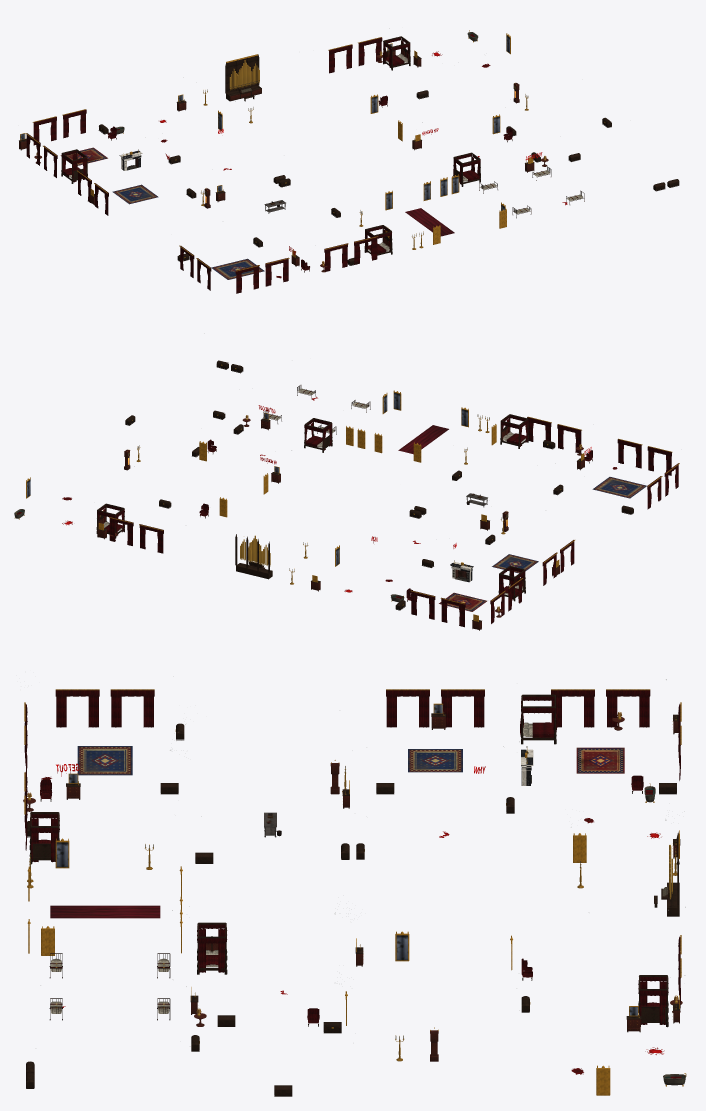
The model's file is manor_furn_f2.glb.
3 views of the same model, one above another, from view 1: azimuth 30°, elevation 25°; view 2: azimuth 150°, elevation 25°; view 3: azimuth 270°, elevation 25° (orthographic). The views are drawn at different scales.
Visible parts, largest first — view 1: manor_furn_f2; view 2: manor_furn_f2; view 3: manor_furn_f2.
Boxes of the visible parts, left/top/right/bottom form: manor_furn_f2: left=19, top=28, right=679, bottom=293; manor_furn_f2: left=14, top=333, right=679, bottom=630; manor_furn_f2: left=20, top=676, right=686, bottom=1096.
Bounding box in the file's own units: 65.24 × 5.05 × 49.27.
46 materials, 45 textured.
